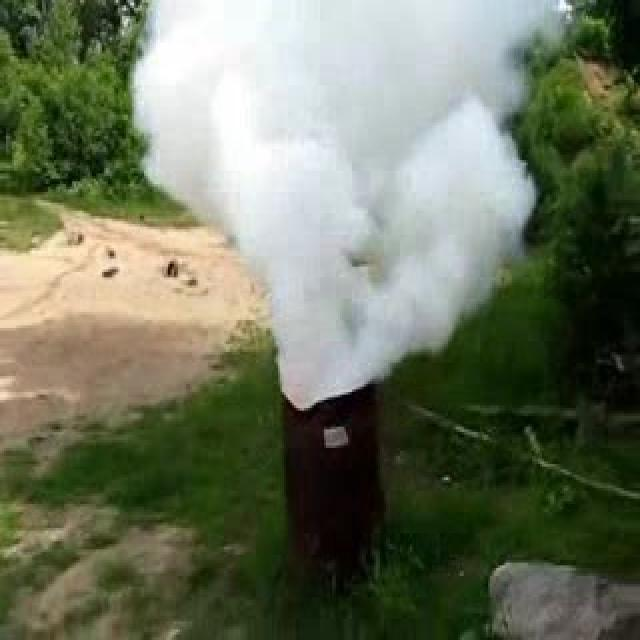Smoke: (132, 0, 568, 410)
